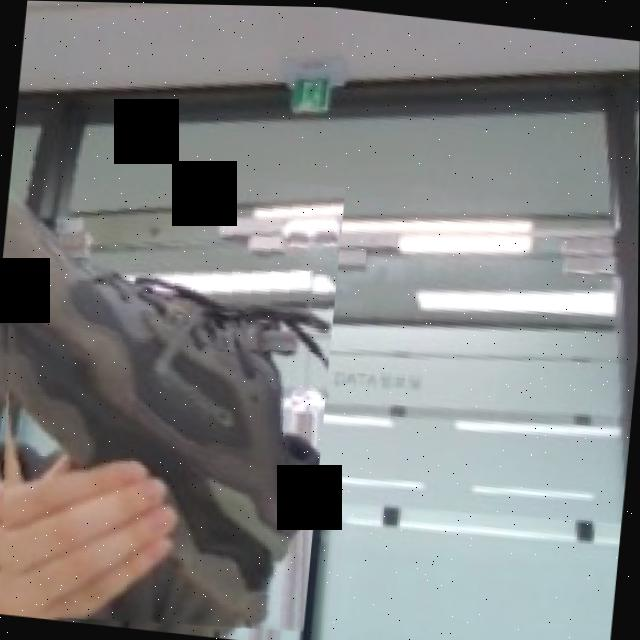shoe: (0, 151, 345, 640)
